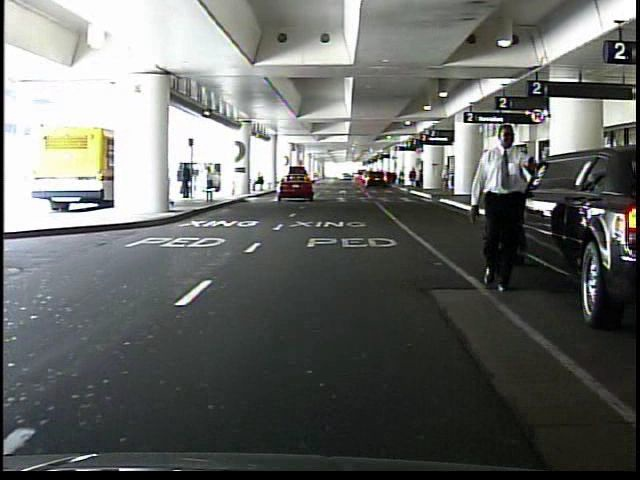person: (465, 121, 536, 291), (180, 160, 194, 199), (440, 166, 454, 193), (253, 171, 266, 193), (409, 167, 418, 190)
